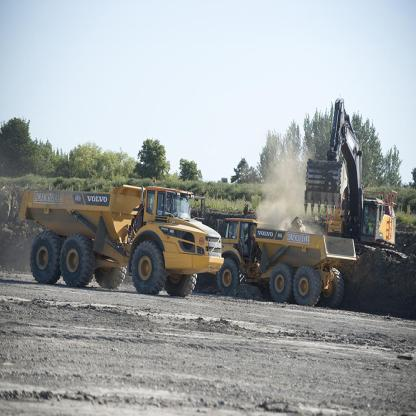dump_truck: (14, 178, 226, 300), (214, 210, 358, 322)
excavator: (305, 92, 411, 253)
